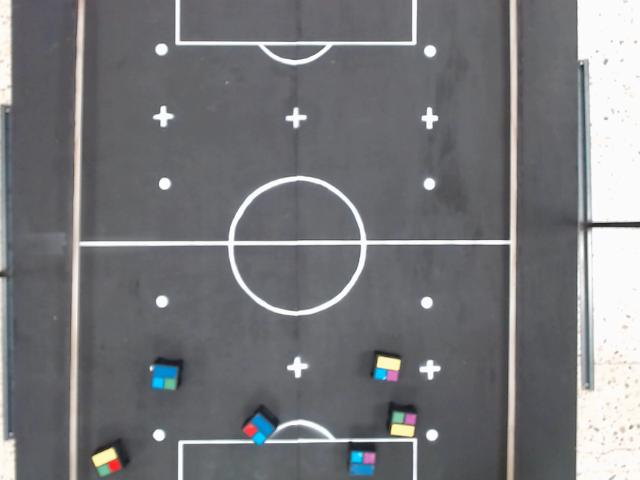robot: (239, 412, 277, 448), (90, 445, 123, 478), (370, 353, 403, 384), (387, 409, 418, 439), (346, 448, 377, 477), (149, 363, 179, 392)
